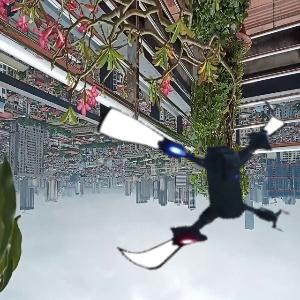drone: (82, 76, 300, 294)
